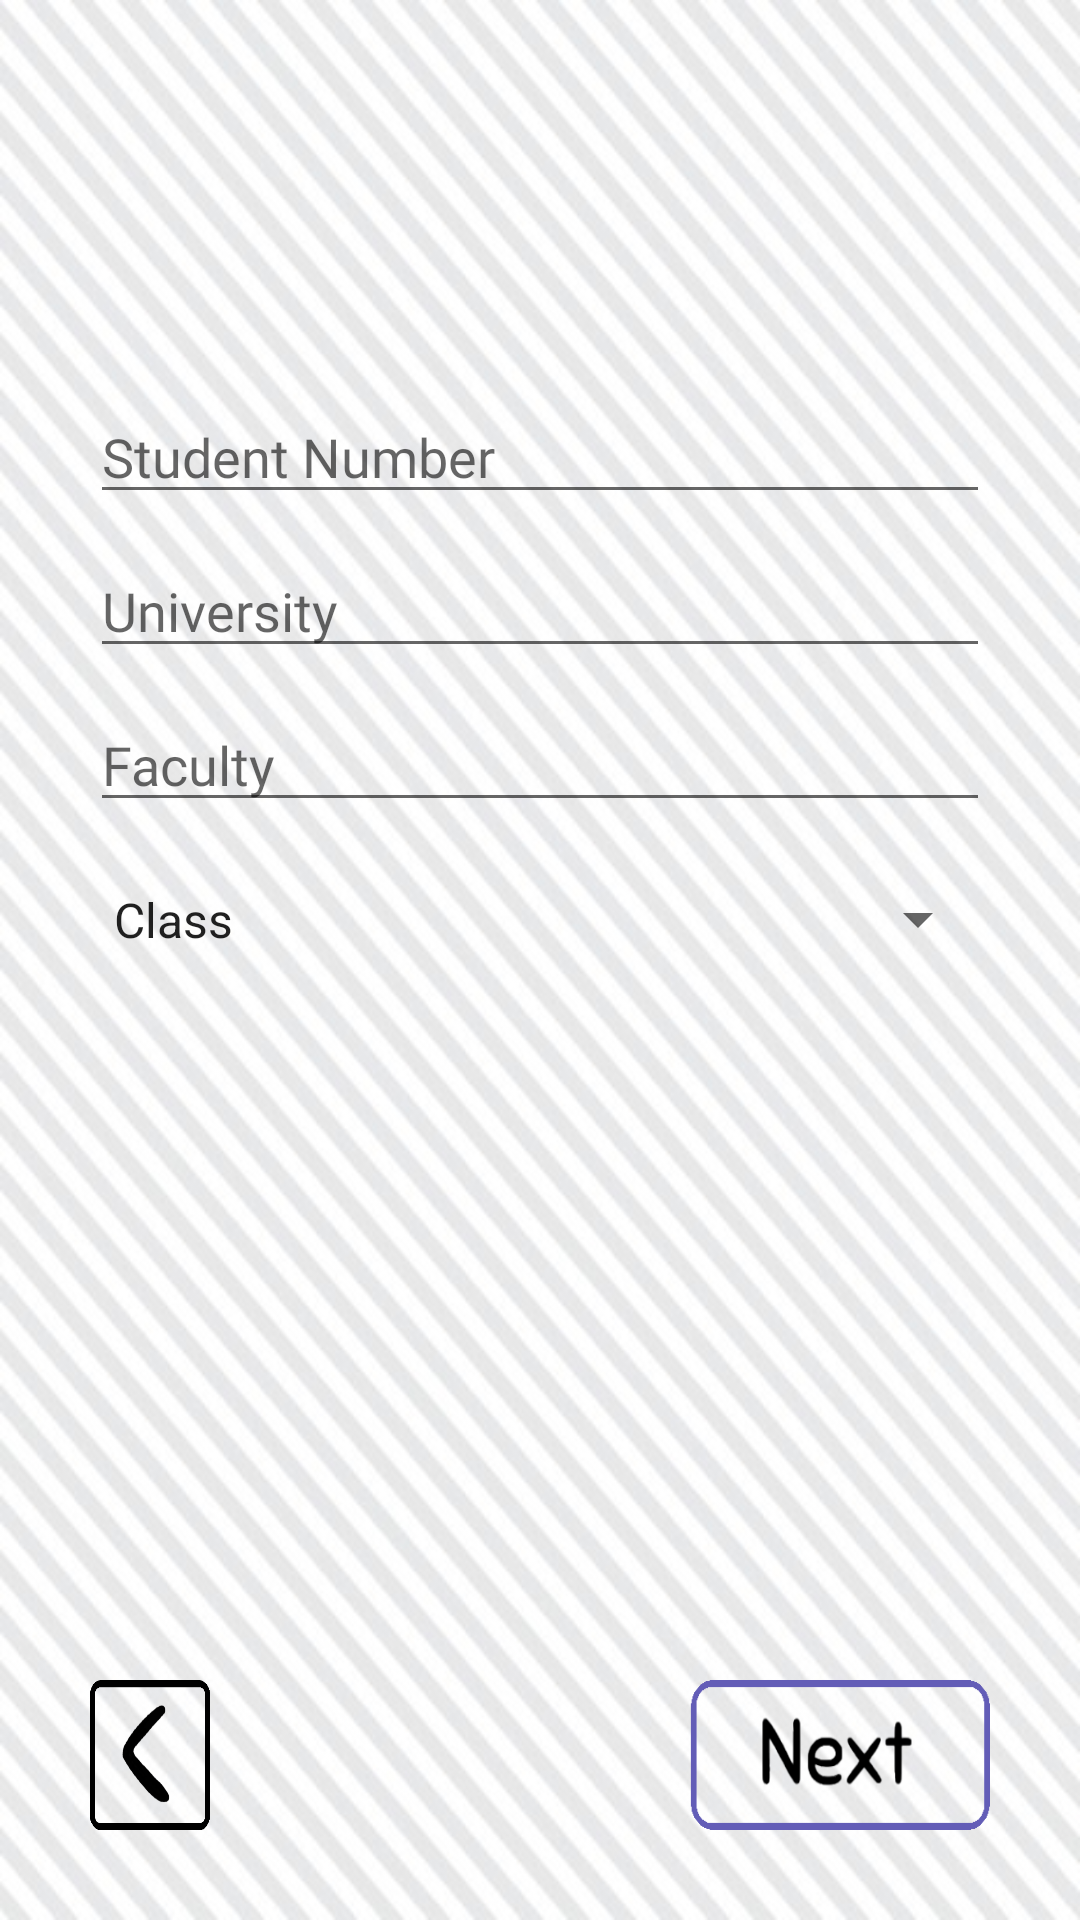

Named icons in this screenshot (1080px×1920px) and their centers, point (x, y):
backbutton: point (150, 1755)
